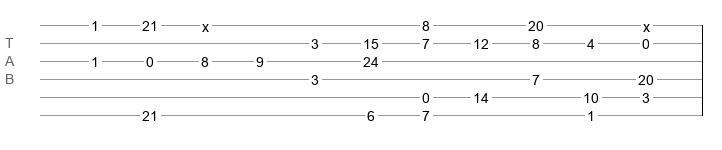0: (146, 54, 154, 64), (422, 90, 430, 100), (642, 36, 650, 46)
1: (91, 54, 99, 64), (91, 18, 99, 28), (587, 108, 595, 118)
10: (583, 90, 599, 100)
12: (473, 36, 489, 46)
14: (473, 90, 489, 100)
15: (363, 36, 379, 46)
20: (528, 18, 544, 28), (638, 72, 654, 82)
21: (142, 18, 158, 28), (142, 108, 158, 118)
24: (363, 54, 379, 64)
3: (311, 36, 319, 46), (311, 72, 319, 82), (642, 90, 650, 100)
4: (587, 36, 595, 46)
6: (367, 108, 375, 118)
7: (422, 108, 430, 118), (422, 36, 430, 46), (532, 72, 540, 82)
8: (201, 54, 209, 64), (422, 18, 430, 28), (532, 36, 540, 46)
9: (256, 54, 264, 64)
x: (202, 19, 209, 27), (643, 19, 650, 27)
